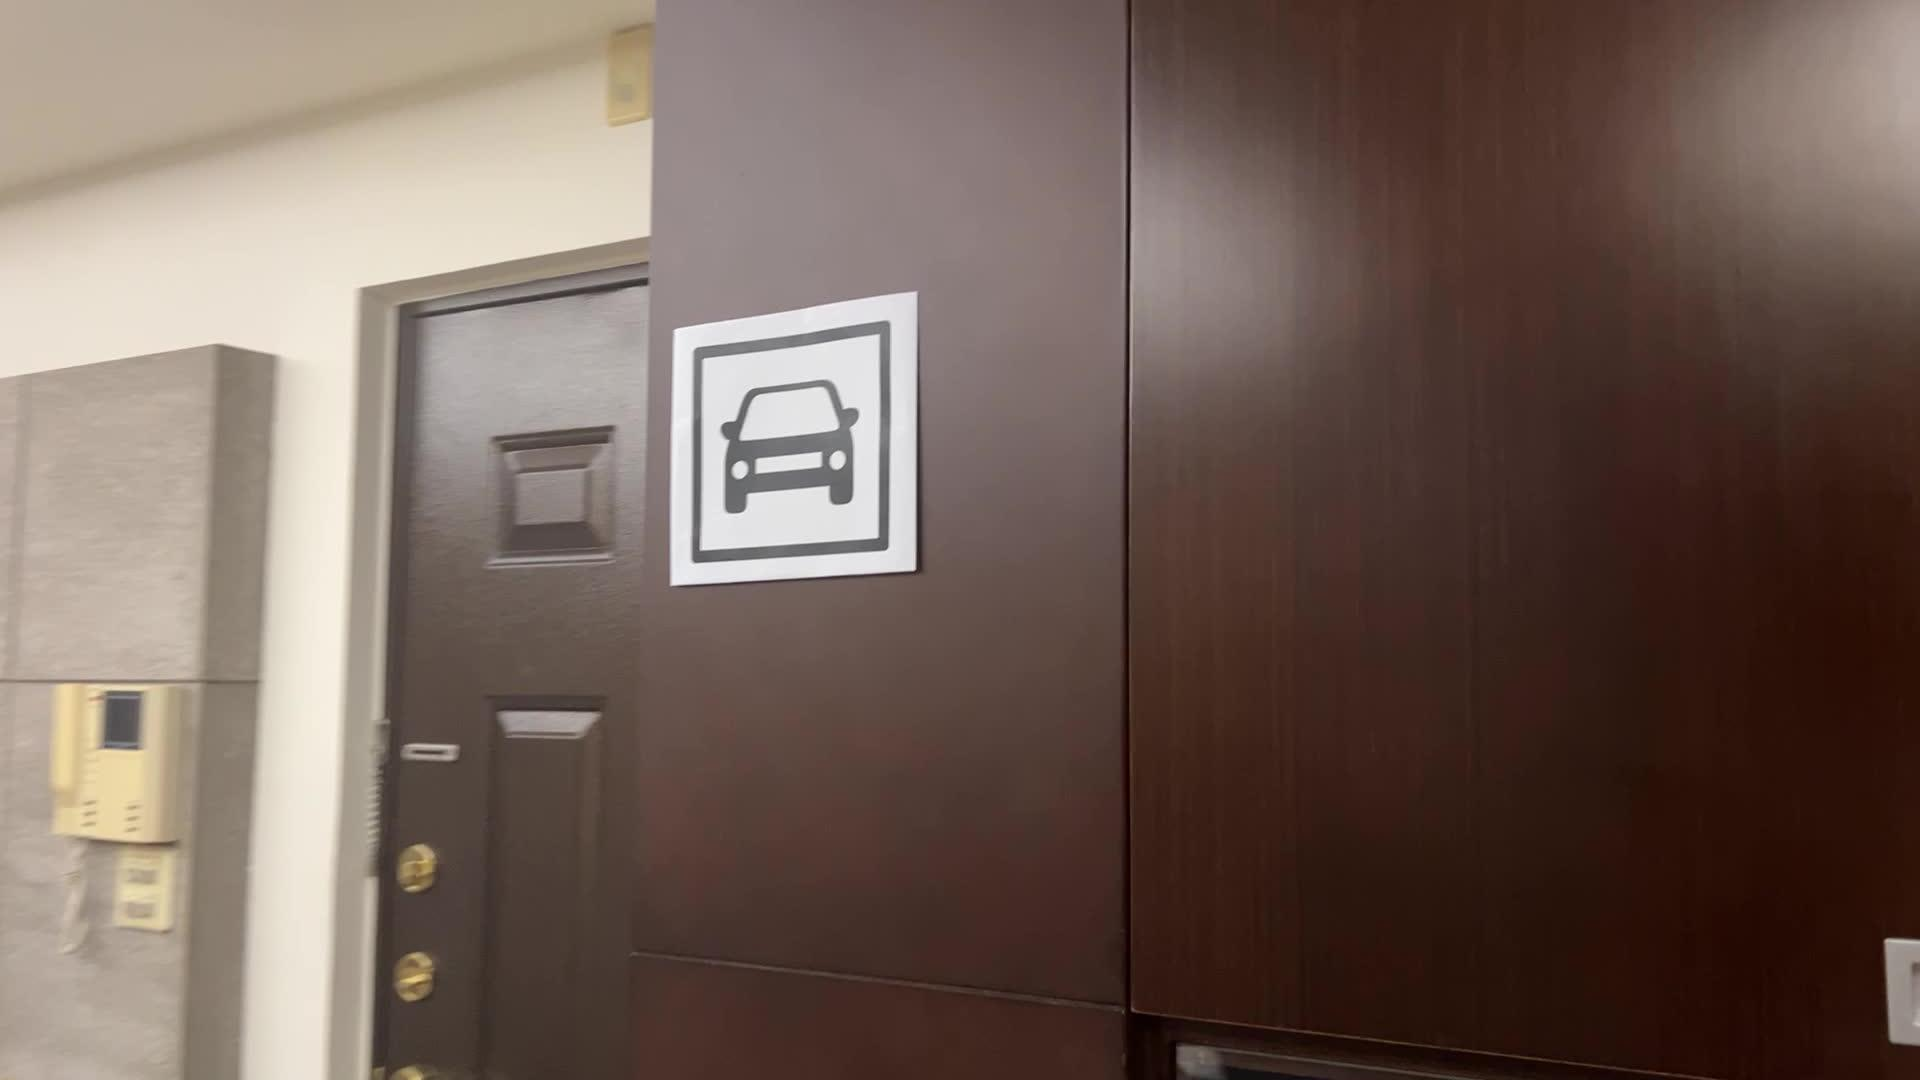car_img: (684, 307, 901, 568)
